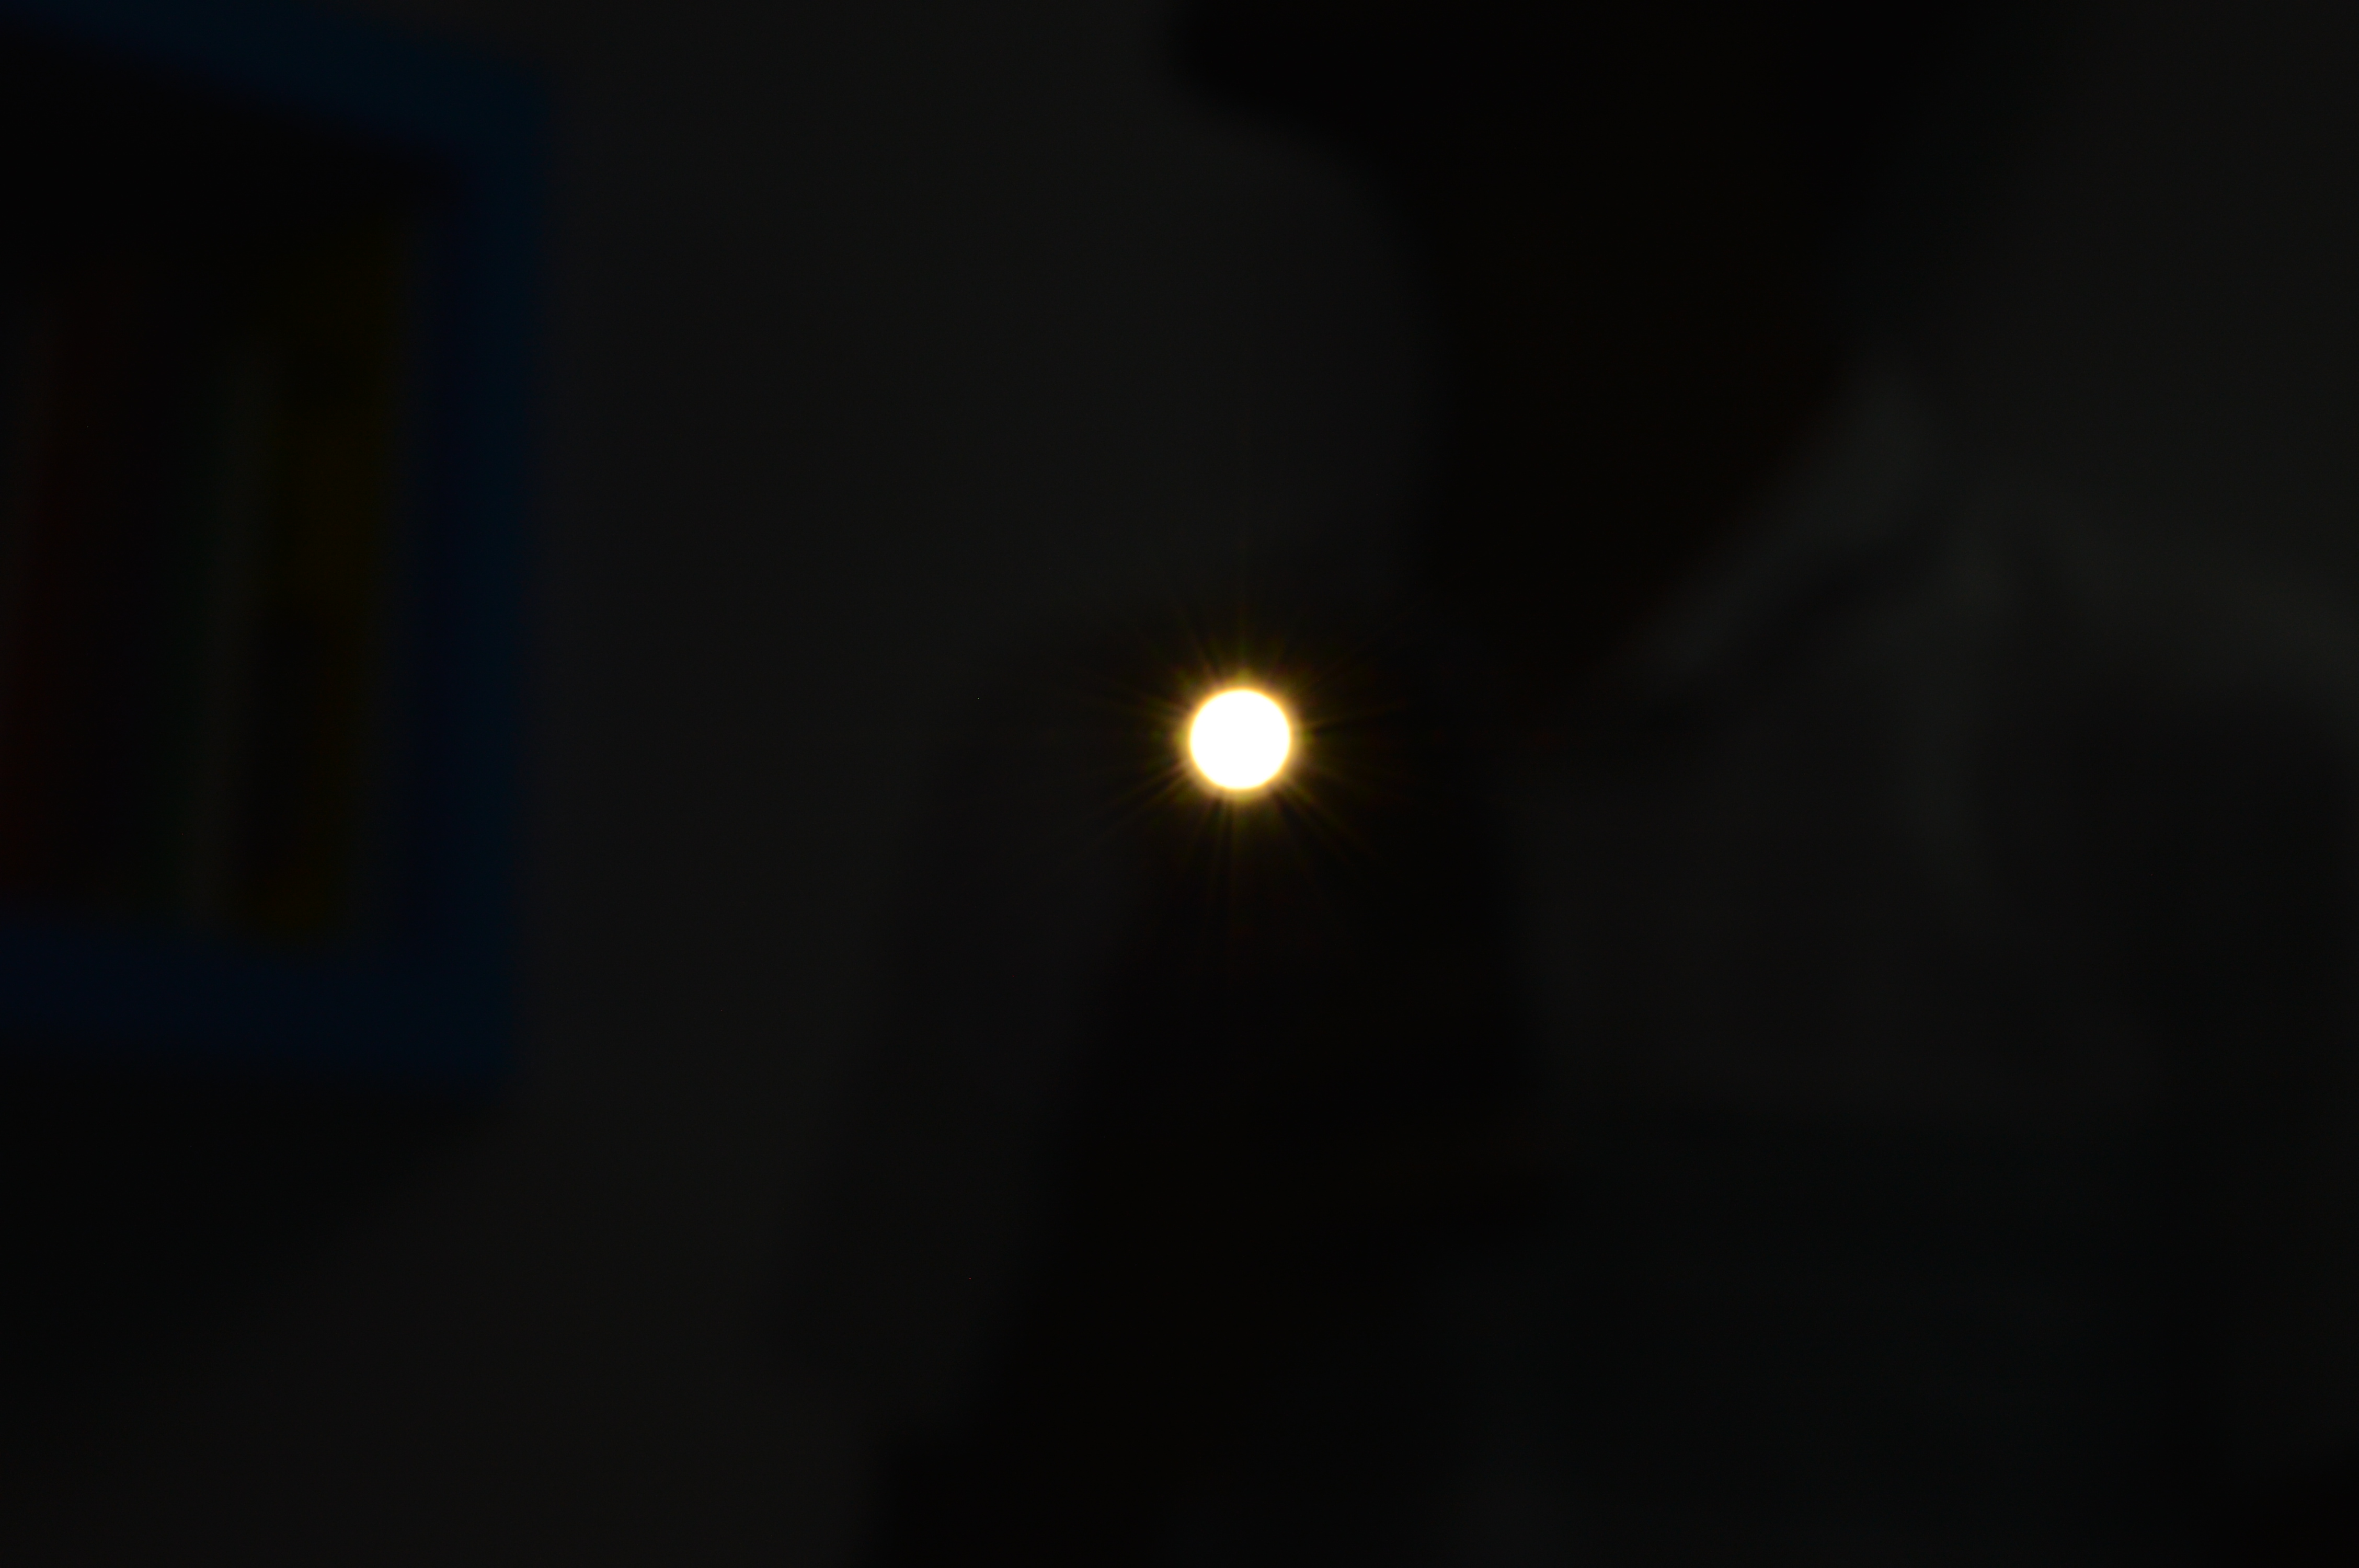Glare: (1181, 686, 1300, 807)
